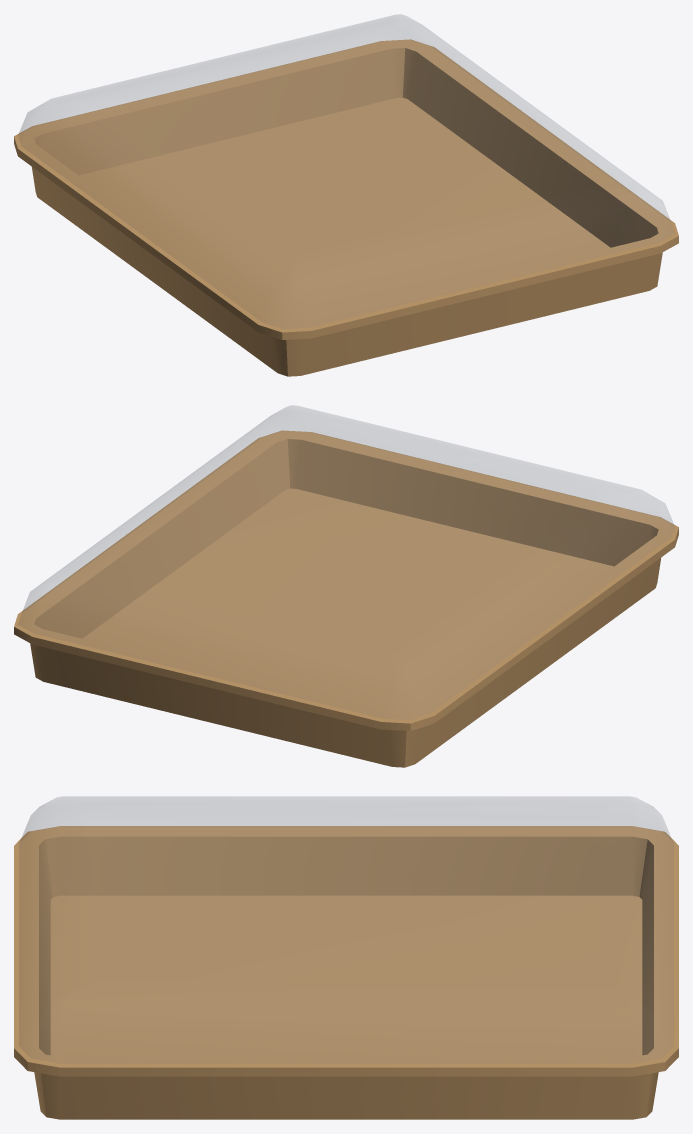
Rendered from bandeja_chorizos_6.glb.
3 views of the same model, one above another, from view 1: azimuth 30°, elevation 25°; view 2: azimuth 150°, elevation 25°; view 3: azimuth 270°, elevation 25° (orthographic). The views are drawn at different scales.
Visible parts, largest first — view 1: bandeja_chorizos_6; view 2: bandeja_chorizos_6; view 3: bandeja_chorizos_6.
Boxes of the visible parts, x1,y1,x2,y2 form: bandeja_chorizos_6: [14, 14, 678, 376]; bandeja_chorizos_6: [14, 405, 678, 767]; bandeja_chorizos_6: [14, 796, 678, 1119].
Bounding box in the file's own units: 0.172 × 0.038 × 0.2.
